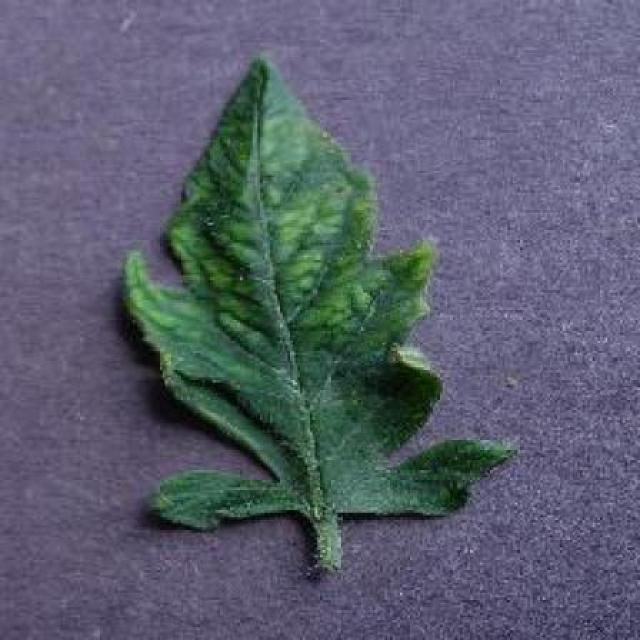Mosaic Virus: (125, 53, 520, 537)
